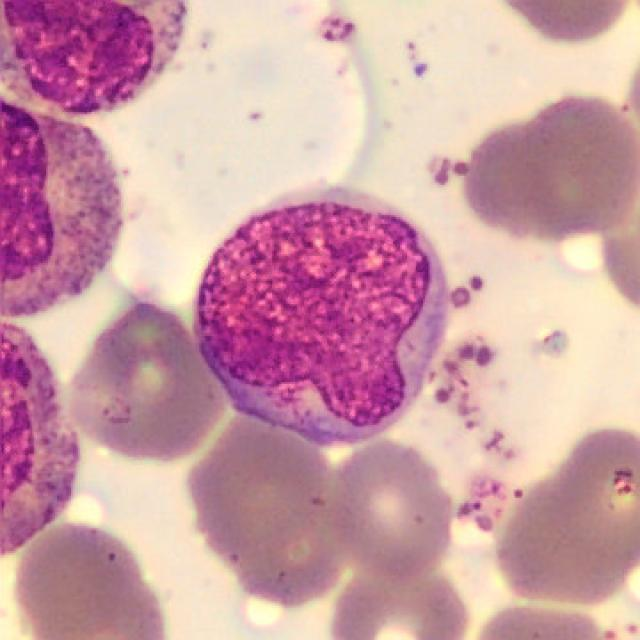Monocito: (187, 184, 452, 450)
